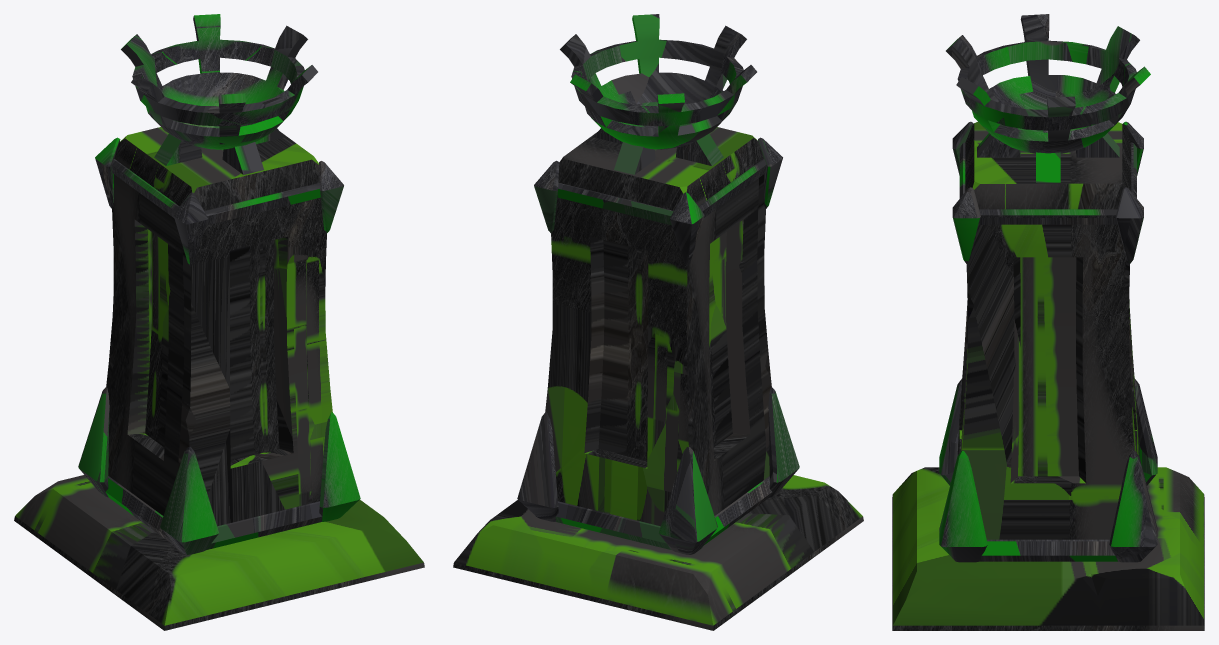
3 views of the same model, side by side, from view 1: azimuth 30°, elevation 25°; view 2: azimuth 150°, elevation 25°; view 3: azimuth 270°, elevation 25° (orthographic). The views are drawn at different scales.
Visible parts, largest first — view 1: FlagPole1; view 2: FlagPole1; view 3: FlagPole1.
Part boxes in pixels (x1=…): FlagPole1: x1=14, y1=14, x2=424, y2=630; FlagPole1: x1=453, y1=14, x2=863, y2=630; FlagPole1: x1=892, y1=14, x2=1204, y2=630.
Size of the model in its own units: 338 by 607 by 338.
